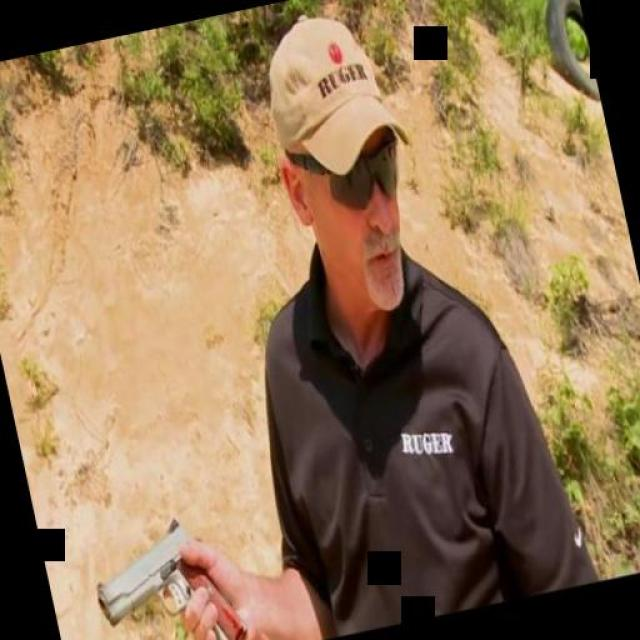gun: (82, 506, 252, 640)
